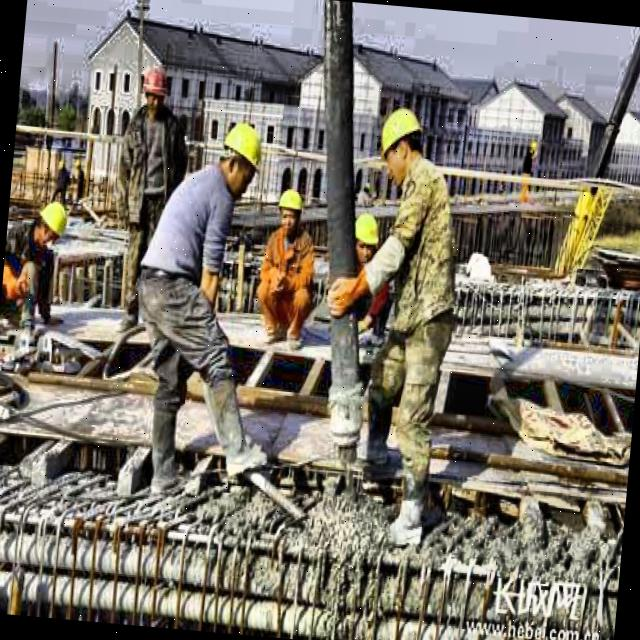helmet: (372, 100, 430, 186), (214, 114, 267, 198), (347, 204, 382, 272), (273, 178, 308, 242), (136, 54, 169, 120), (31, 196, 71, 247)
